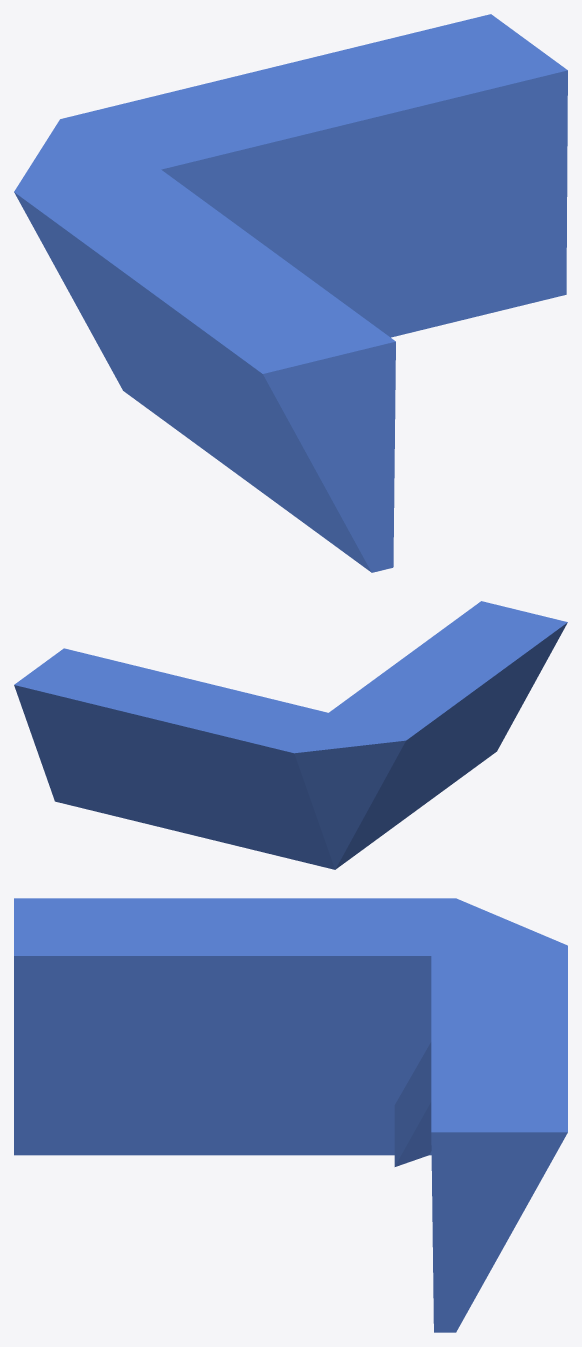
Rendered from TopPadded_Incline_Curve_Square_Outer_Collision.fbx.
3 renders of one model, top to bottom at view 1: azimuth 30°, elevation 25°; view 2: azimuth 150°, elevation 25°; view 3: azimuth 270°, elevation 25°, orthographic. The views are drawn at different scales.
Visible parts, largest first — view 1: TopPadded_Incline_Curve_Square_Outer_Collision; view 2: TopPadded_Incline_Curve_Square_Outer_Collision; view 3: TopPadded_Incline_Curve_Square_Outer_Collision.
Part boxes in pixels (bbox=[...]): TopPadded_Incline_Curve_Square_Outer_Collision: bbox=[14, 14, 567, 572]; TopPadded_Incline_Curve_Square_Outer_Collision: bbox=[14, 601, 567, 869]; TopPadded_Incline_Curve_Square_Outer_Collision: bbox=[14, 898, 567, 1332].
Size of the model in its own units: 501 by 200 by 501.
